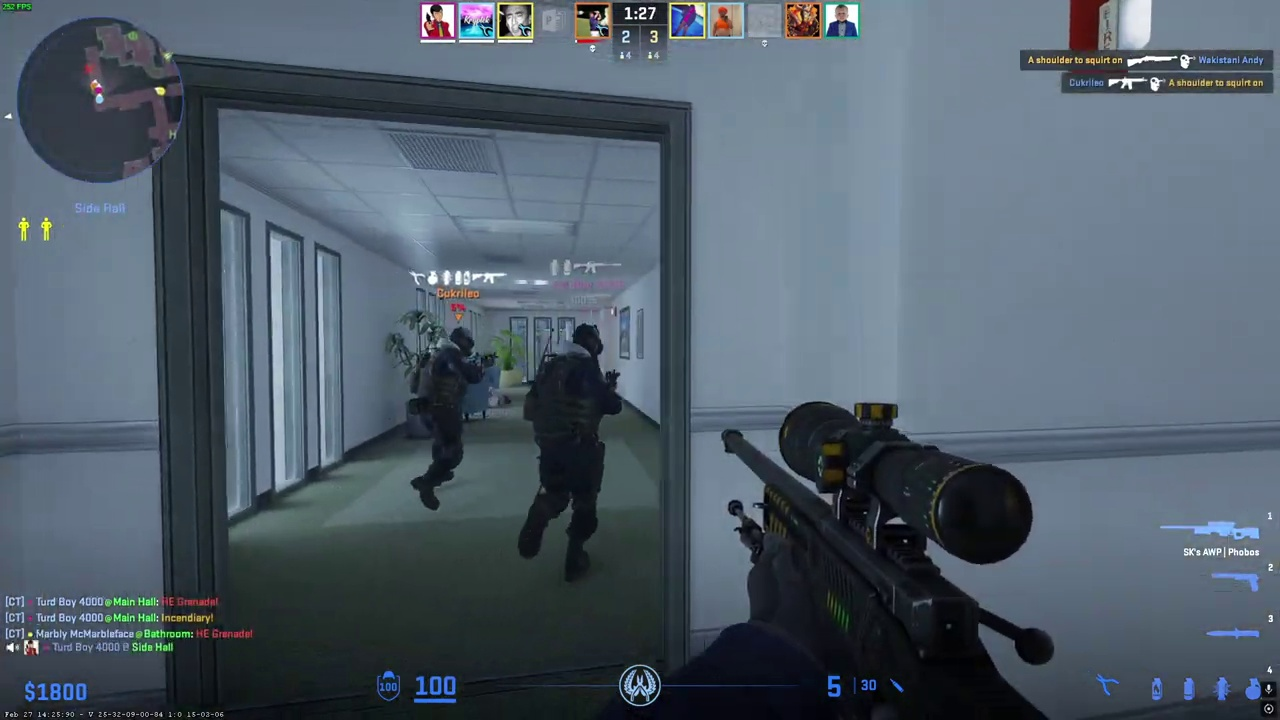CT: (523, 324, 616, 580), (408, 325, 482, 508)
